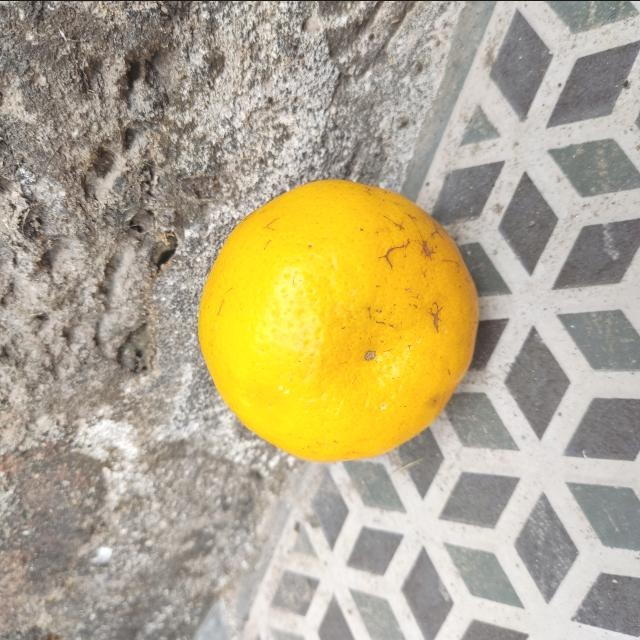agrume: (196, 177, 480, 462)
